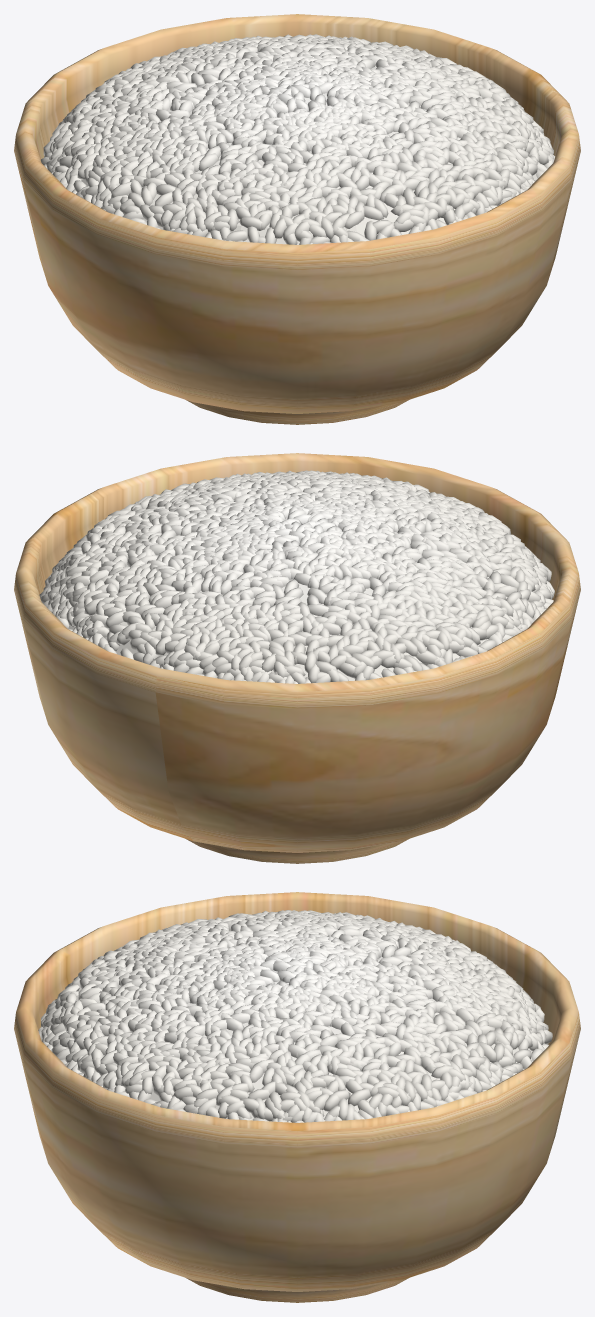
The model's file is RiceBolw_LOD.fbx.
3 views of the same model, one above another, from view 1: azimuth 30°, elevation 25°; view 2: azimuth 150°, elevation 25°; view 3: azimuth 270°, elevation 25° (orthographic).
Visible parts, largest first — view 1: RiceBolw_LOD0; view 2: RiceBolw_LOD0; view 3: RiceBolw_LOD0.
Part boxes in pixels (box(x1,y1,x2,y2)): RiceBolw_LOD0: box(14, 14, 580, 424); RiceBolw_LOD0: box(14, 453, 580, 863); RiceBolw_LOD0: box(14, 892, 580, 1302).
Size of what is drawn, in the model's own units: 90.85 by 49.75 by 90.85.
2 materials, 2 textured.
